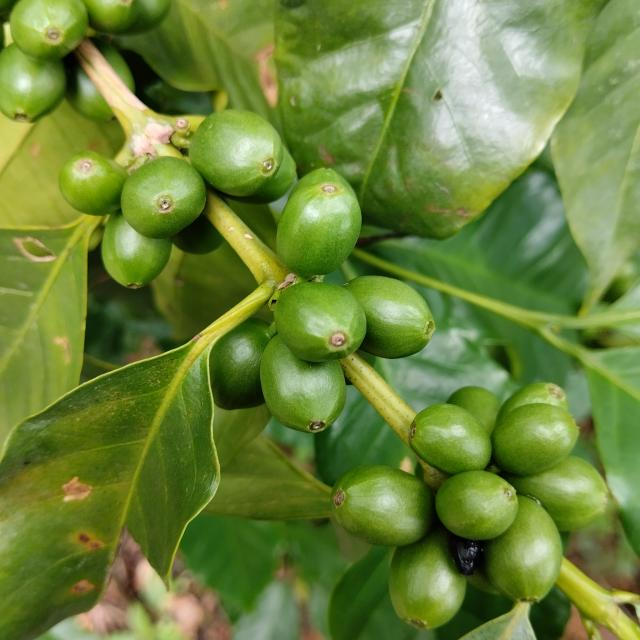green: (188, 109, 296, 204), (276, 168, 362, 276), (260, 334, 346, 433), (485, 496, 563, 603), (332, 466, 435, 547), (389, 527, 467, 630), (505, 456, 609, 532), (344, 276, 436, 359), (273, 282, 367, 362), (120, 156, 205, 238), (491, 403, 580, 476), (209, 317, 276, 411), (409, 404, 492, 476), (436, 471, 519, 541), (101, 210, 172, 288), (0, 42, 65, 122), (9, 0, 88, 59), (58, 151, 127, 215), (497, 383, 570, 421), (447, 386, 501, 434)
